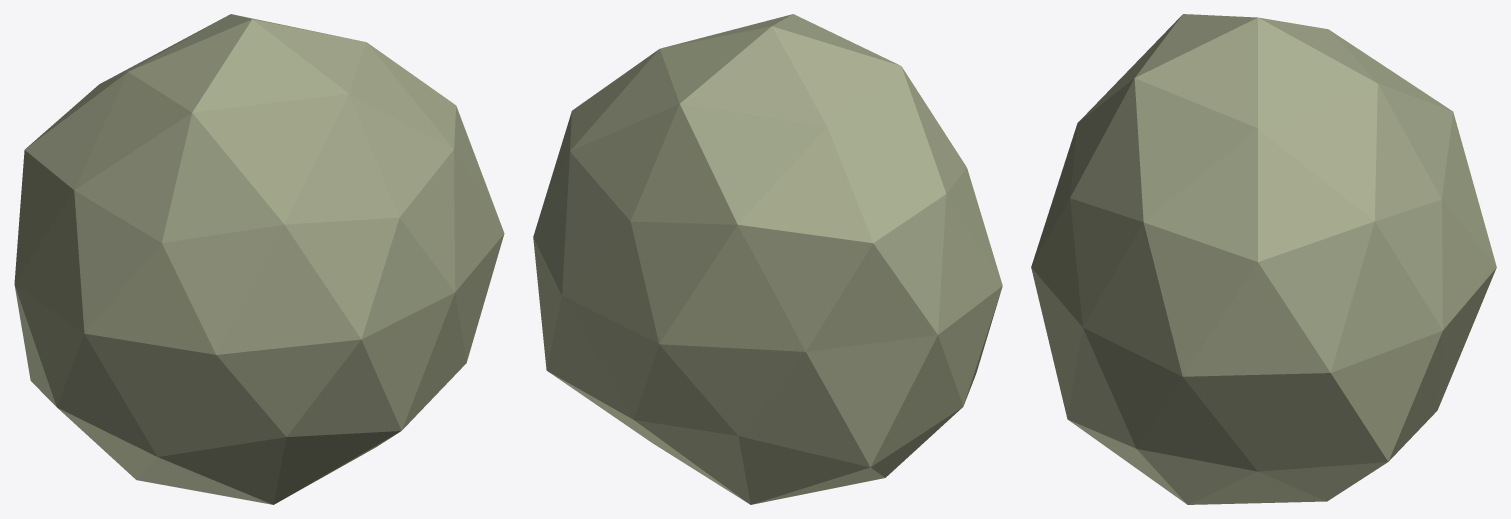
Rendered from rock-2.glb.
3 views of the same model, side by side, from view 1: azimuth 30°, elevation 25°; view 2: azimuth 150°, elevation 25°; view 3: azimuth 270°, elevation 25° (orthographic). The views are drawn at different scales.
Parts seen in each view (by area): view 1: Weathered boulder.002; view 2: Weathered boulder.002; view 3: Weathered boulder.002.
Part boxes in pixels (x1,y1,x2,y2): Weathered boulder.002: [14, 14, 504, 504]; Weathered boulder.002: [533, 14, 1002, 504]; Weathered boulder.002: [1031, 14, 1496, 504].
Size of the model in its own units: 1.75 by 1.85 by 1.62.
